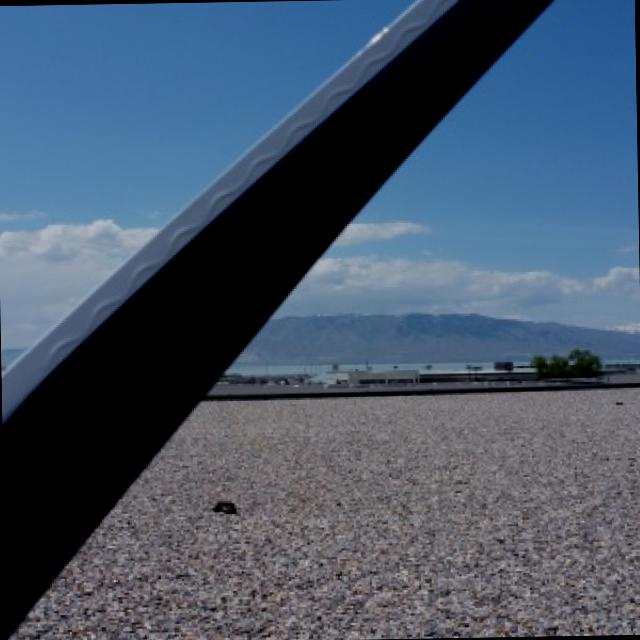healthy: (1, 0, 547, 613)
